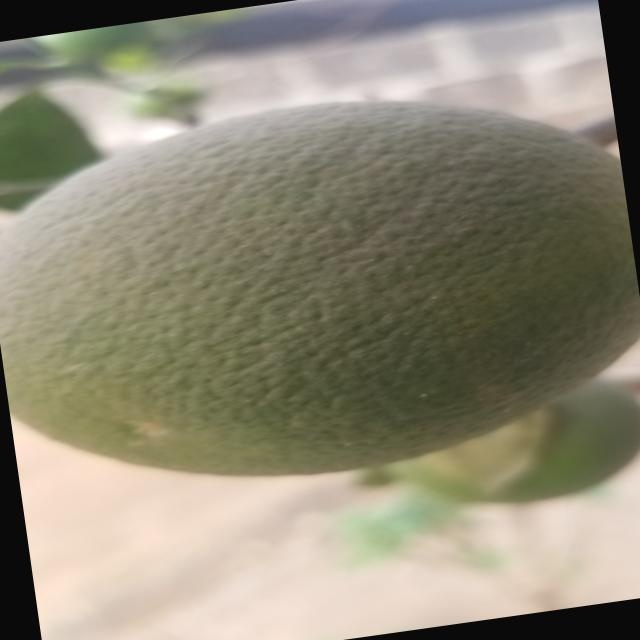agrume: (0, 79, 640, 516)
